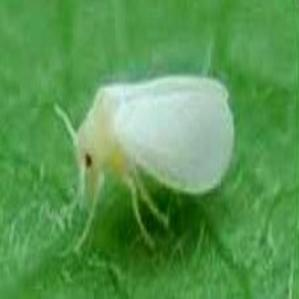Silverleaf whitefly: (46, 61, 242, 252)
